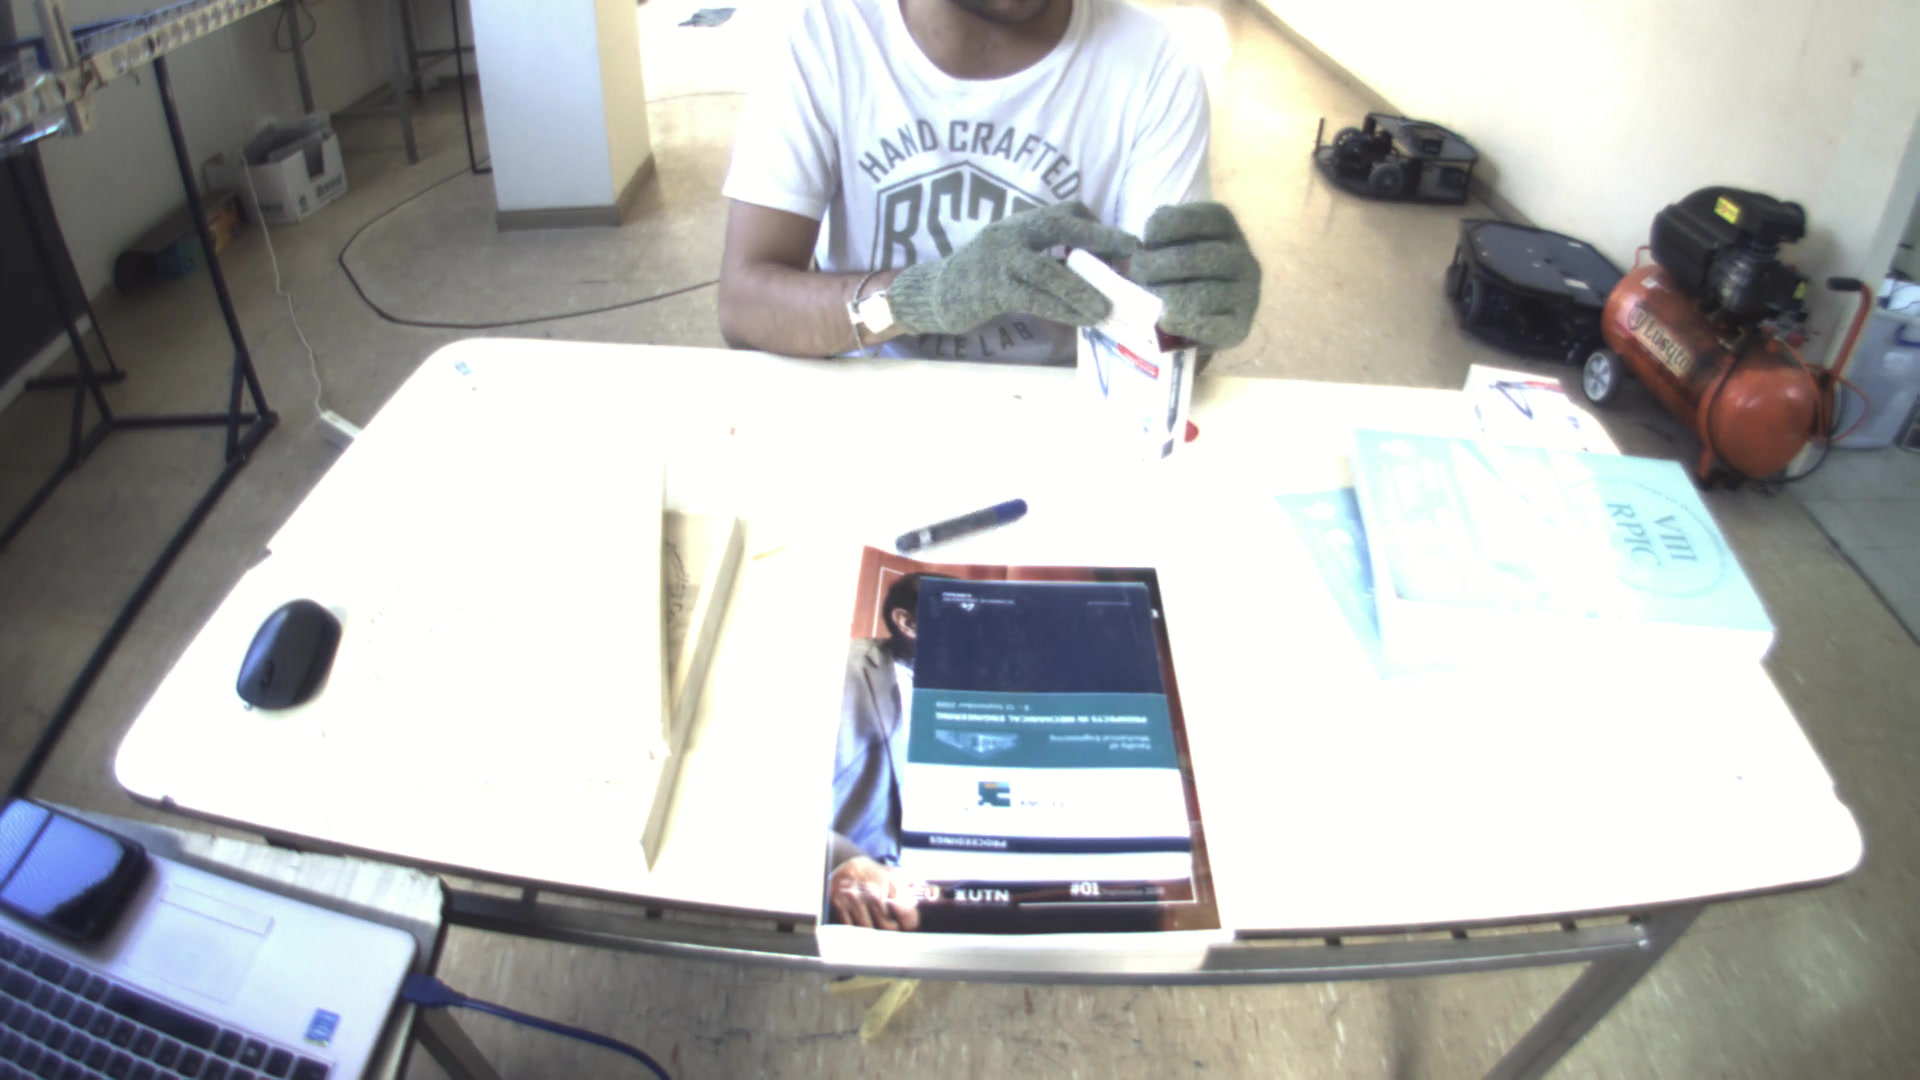hand: (853, 200, 1138, 349), (1122, 189, 1273, 343)
